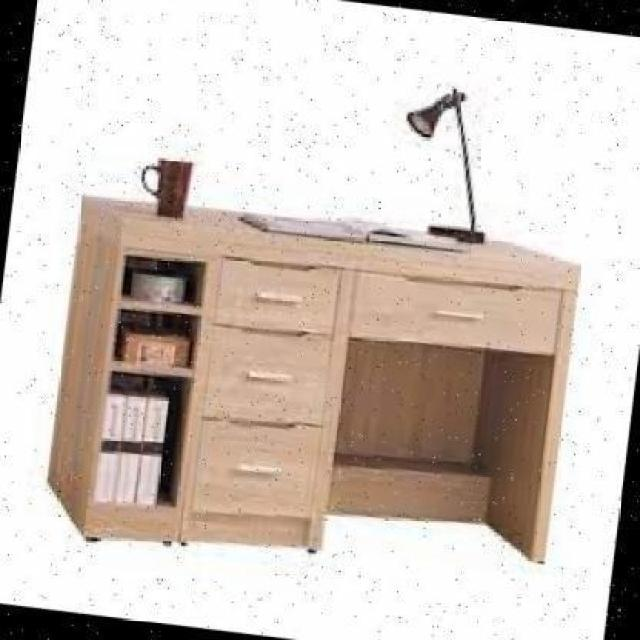tables: (44, 194, 582, 563)
